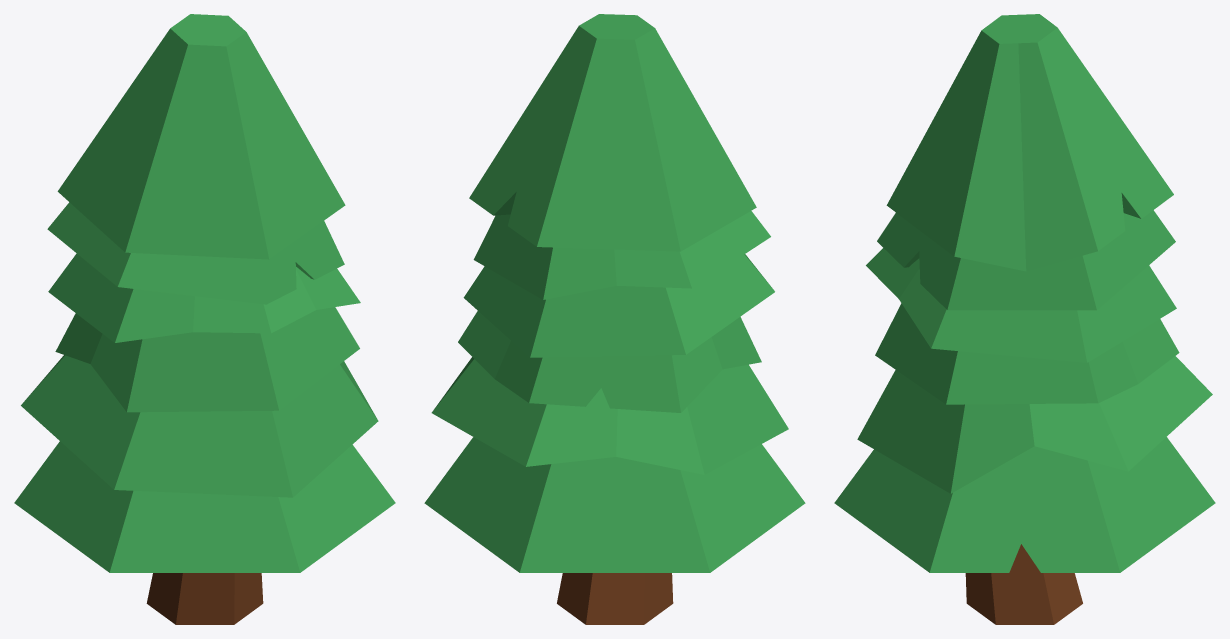
The model's file is tree_2.gltf.
3 renders of one model, left to right at view 1: azimuth 30°, elevation 25°; view 2: azimuth 150°, elevation 25°; view 3: azimuth 270°, elevation 25°, orthographic.
Parts seen in each view (by area): view 1: tree.001; view 2: tree.001; view 3: tree.001.
Part boxes in pixels (<box>): tree.001: <box>14,14,395,624</box>; tree.001: <box>424,14,805,624</box>; tree.001: <box>834,14,1215,624</box>.
Size of the model in its own units: 3.83 by 7.37 by 4.42.
